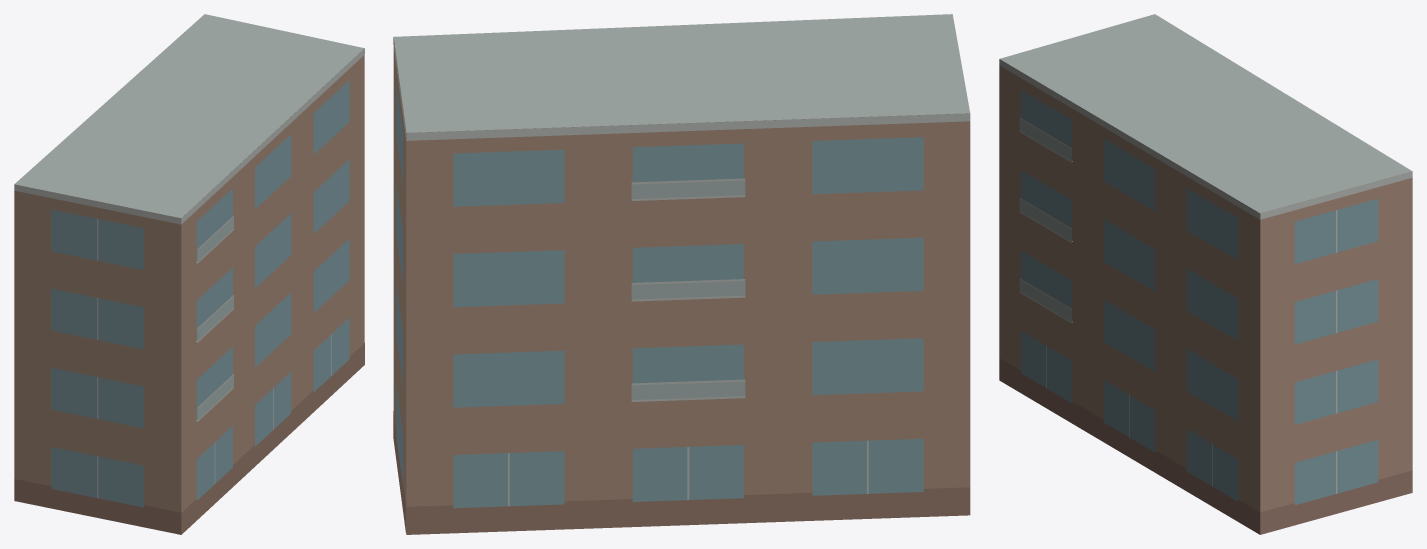
File: survey-upis-32883467.glb
3 renders of one model, left to right at view 1: azimuth 30°, elevation 25°; view 2: azimuth 150°, elevation 25°; view 3: azimuth 270°, elevation 25°, orthographic. The views are drawn at different scales.
Visible parts, largest first — view 1: survey-upis-32883467.tmp; view 2: survey-upis-32883467.tmp; view 3: survey-upis-32883467.tmp.
Boxes of the visible parts, x1=… form: survey-upis-32883467.tmp: x1=14, y1=14, x2=364, y2=534; survey-upis-32883467.tmp: x1=393, y1=14, x2=970, y2=534; survey-upis-32883467.tmp: x1=999, y1=14, x2=1412, y2=534.
Bounding box in the file's own units: 16.23 × 12.2 × 14.22.
